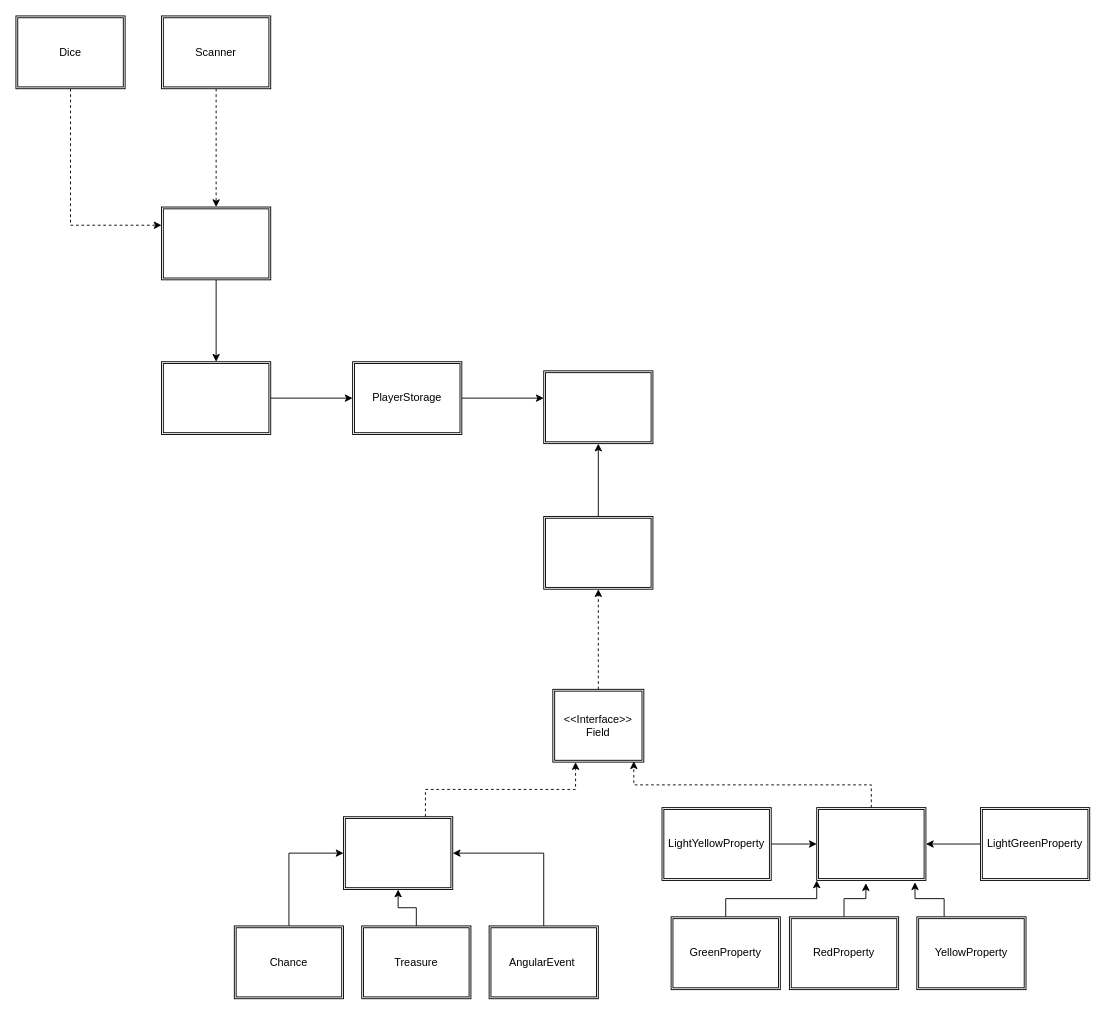
The diagram is 1106 pixels wide and 1015 high, and some of its shapes have lost their labels. Here are the shapes that lost their labels. From the top down, the centre of each, then its label:
At (216,243): "<<Interface>> Input".
At (216,398): "Player".
At (598,407): "GameRunner".
At (598,552): "FieldsStorage".
At (398,853): "<<Abstract>> Event".
At (871,843): "<<Abstract>> Property".
